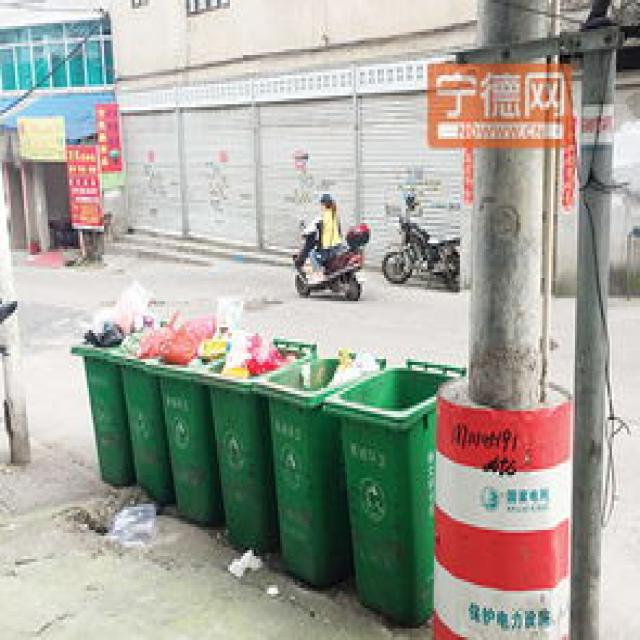garbage_bin: (325, 356, 436, 626)
overflow: (252, 347, 384, 588), (193, 333, 282, 550), (143, 310, 217, 521), (106, 319, 172, 501), (70, 310, 132, 483)
